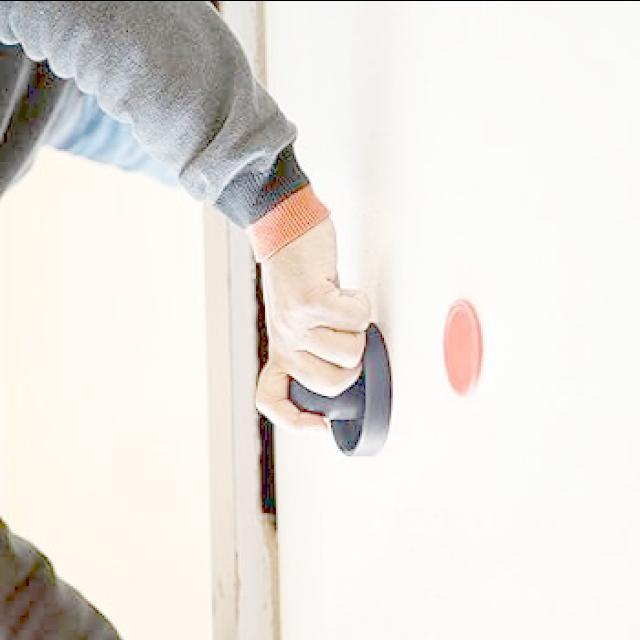chip: (441, 295, 484, 400)
